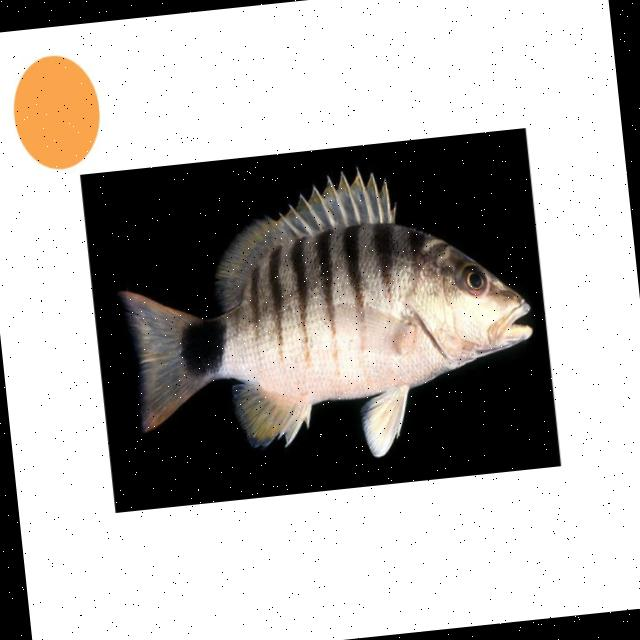ikan: (107, 148, 546, 484)
